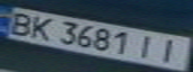1: (112, 28, 133, 56)
3: (54, 19, 81, 47)
6: (75, 22, 96, 51)
8: (90, 26, 115, 53)
B: (3, 10, 39, 36)
I: (151, 36, 187, 64), (133, 33, 163, 61)
K: (24, 13, 57, 42)
